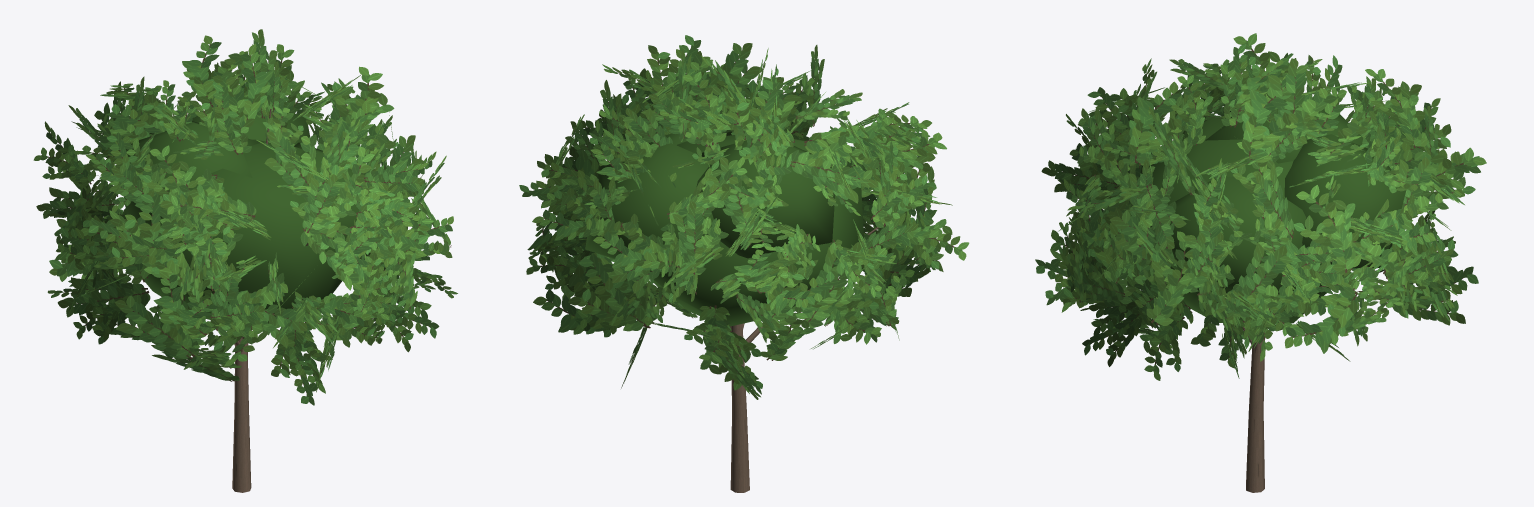
File: GEN_PEQUENA_1.glb
3 views of the same model, side by side, from view 1: azimuth 30°, elevation 25°; view 2: azimuth 150°, elevation 25°; view 3: azimuth 270°, elevation 25° (orthographic). The views are drawn at different scales.
Visible parts, largest first — view 1: Arv_GEN_PEQUENA_lod1; view 2: Arv_GEN_PEQUENA_lod1; view 3: Arv_GEN_PEQUENA_lod1.
Boxes of the visible parts, x1=… form: Arv_GEN_PEQUENA_lod1: x1=33, y1=29, x2=457, y2=492; Arv_GEN_PEQUENA_lod1: x1=519, y1=35, x2=969, y2=492; Arv_GEN_PEQUENA_lod1: x1=1035, y1=33, x2=1486, y2=492.
Size of the model in its own units: 10.74 by 11.19 by 11.05.
Materials: 3 (2 with a texture image).
